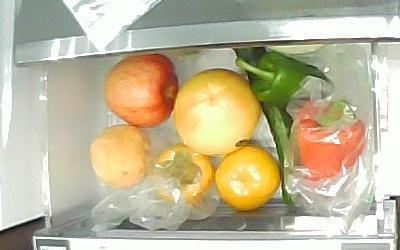apple: (104, 52, 178, 129)
cucumber: (232, 47, 300, 207)
grapefruit: (172, 67, 262, 157)
paprika: (234, 55, 333, 110)
paprika_vinyl: (294, 96, 364, 186)
peach: (89, 123, 148, 187)
persimmon: (214, 146, 280, 211)
persimmon_vinyl: (152, 142, 213, 200)
